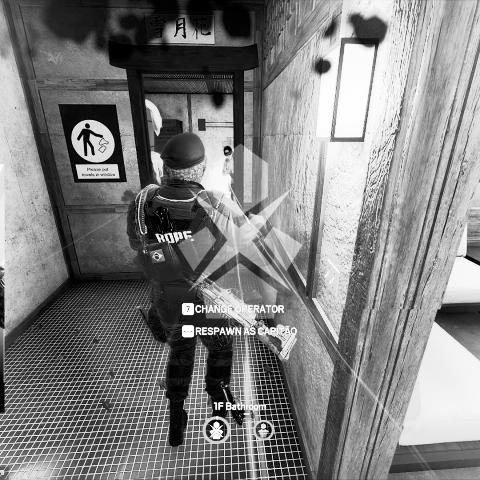Character: (125, 129, 277, 449), (221, 145, 235, 202)
Head: (161, 131, 210, 185), (224, 146, 235, 160)
